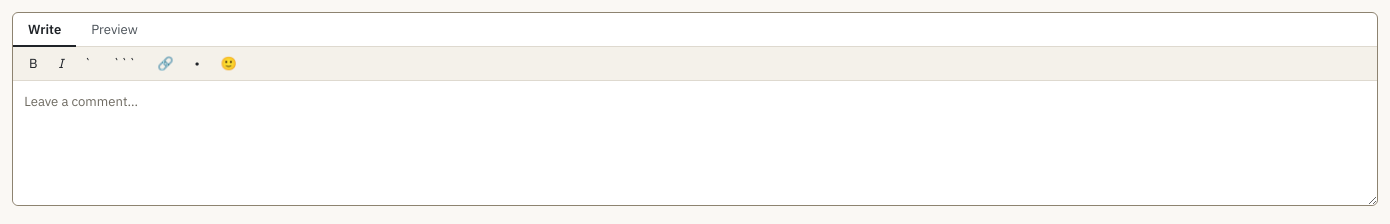
Test case: CommentEditor — emoji picker popover › clicking an emoji closes the popover
The width and height of the screenshot is (1390, 224).
Click the button named "insert emoji": point(229, 64) [212, 51, 245, 76]
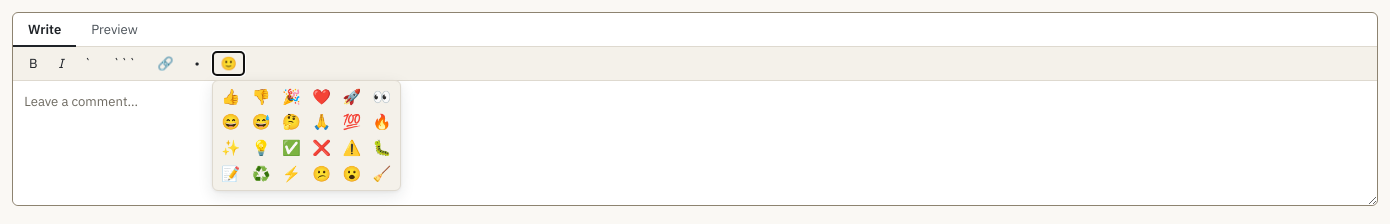
Click the button "🚀": point(352, 97) [338, 85, 366, 109]
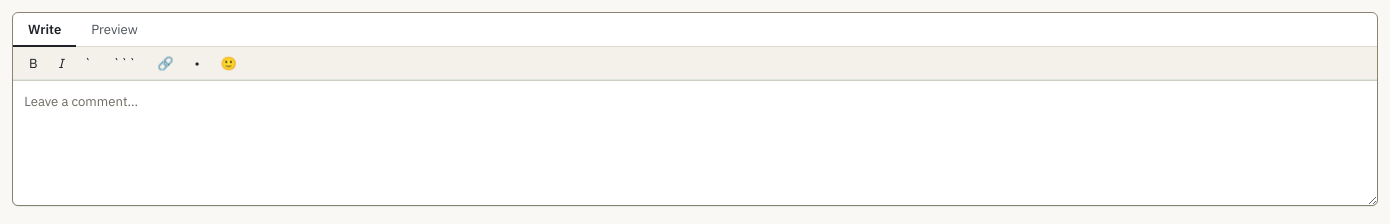
Now the element with test id "emoji-picker" is gone
